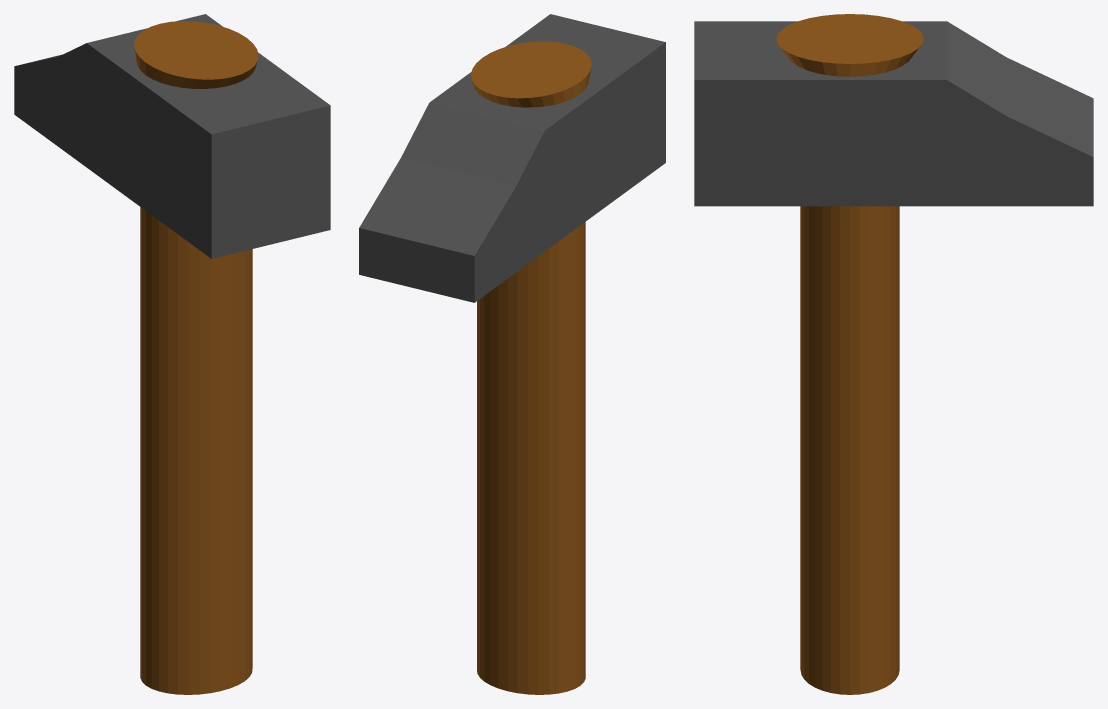
File: Marteau.fbx
The picture shows the model from 3 angles, left to right: view 1: azimuth 30°, elevation 25°; view 2: azimuth 150°, elevation 25°; view 3: azimuth 270°, elevation 25°; orthographic projection. The views are drawn at different scales.
Visible parts, largest first — view 1: Cylinder.001, Cube; view 2: Cylinder.001, Cube; view 3: Cube, Cylinder.001.
Boxes of the visible parts, bbox=[...] form: Cylinder.001: bbox=[134, 21, 258, 694]; Cube: bbox=[14, 14, 330, 258]; Cylinder.001: bbox=[471, 41, 591, 694]; Cube: bbox=[359, 14, 665, 302]; Cube: bbox=[694, 21, 1093, 206]; Cylinder.001: bbox=[776, 14, 923, 694].
Size of the model in its own units: 200 by 1000 by 574.
